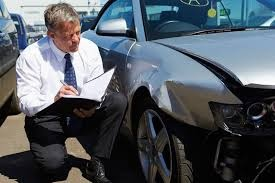Broken-glass: (215, 100, 275, 132)
Dent: (144, 68, 209, 125)
